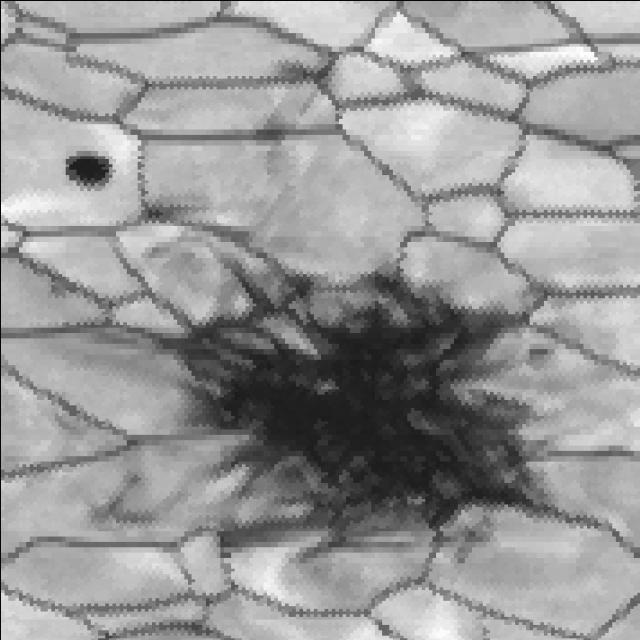good_void: (124, 248, 543, 576), (61, 454, 168, 537), (111, 187, 203, 242), (269, 50, 346, 110), (51, 148, 121, 196), (239, 111, 303, 160), (517, 340, 554, 365)
